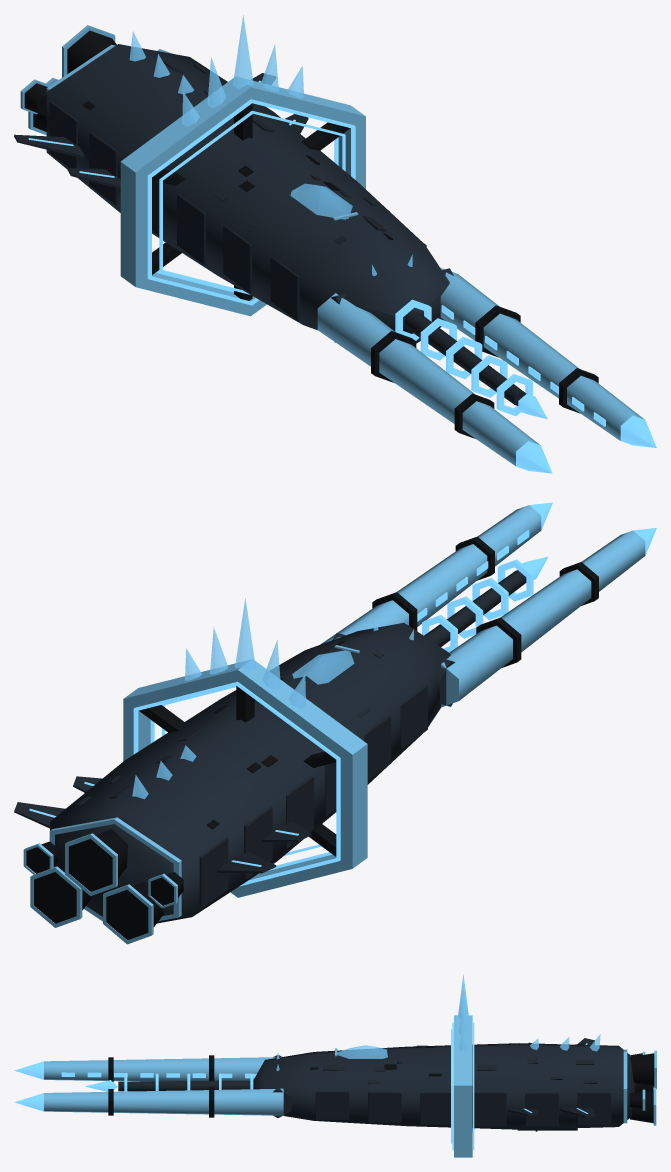
File: kamerton-rezonanci-hawk-61-lod0.glb
3 renders of one model, top to bottom at view 1: azimuth 30°, elevation 25°; view 2: azimuth 150°, elevation 25°; view 3: azimuth 270°, elevation 25°, orthographic. The views are drawn at different scales.
Size of the model in its own units: 9.81 by 10.7 by 33.81.
